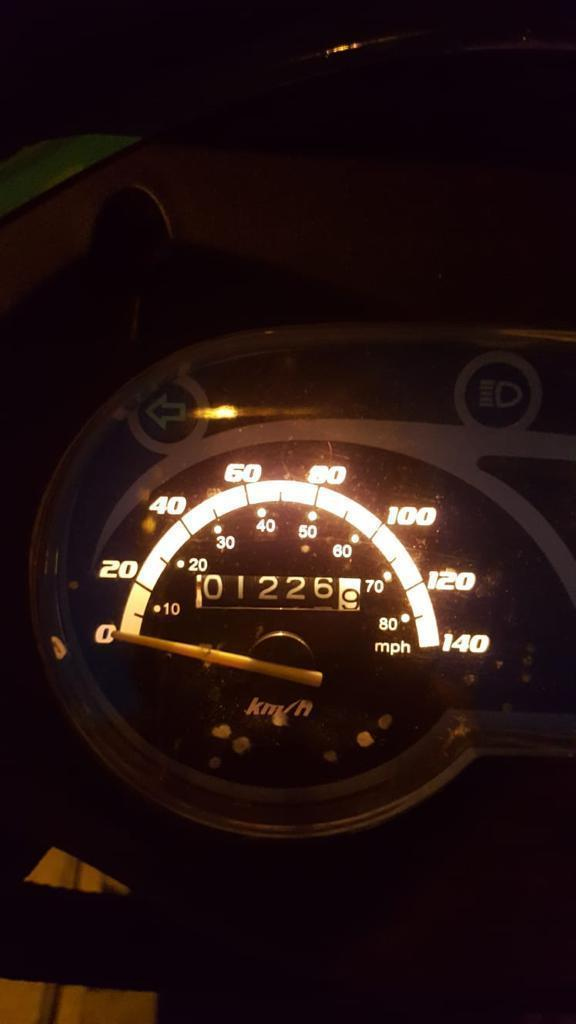0: (201, 573, 223, 601)
1: (232, 573, 248, 601)
2: (255, 574, 280, 601), (284, 575, 308, 601)
6: (312, 575, 336, 600)
9: (339, 587, 361, 612)
odometer: (188, 569, 364, 615)
